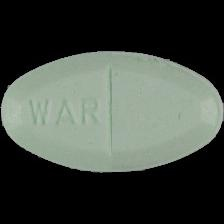54868-4400: (0, 0, 224, 224)
